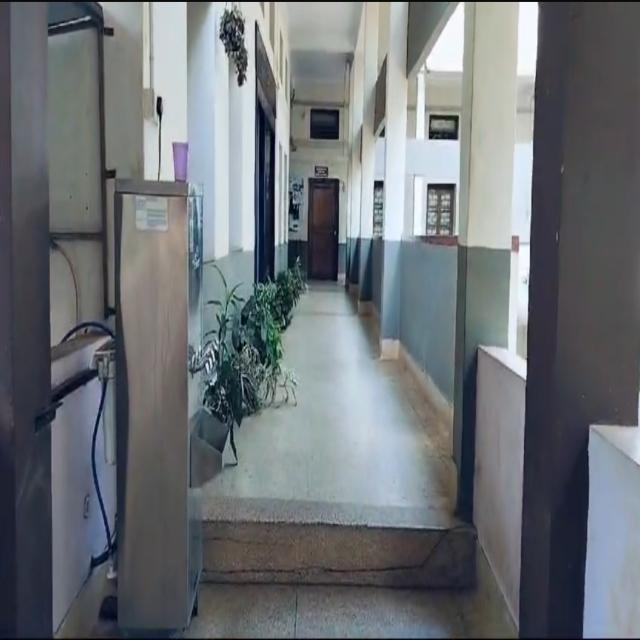fridge ahead at: (116, 180, 233, 638)
pillar ahead at: (456, 2, 512, 515)
step ahead at: (204, 523, 478, 588)
